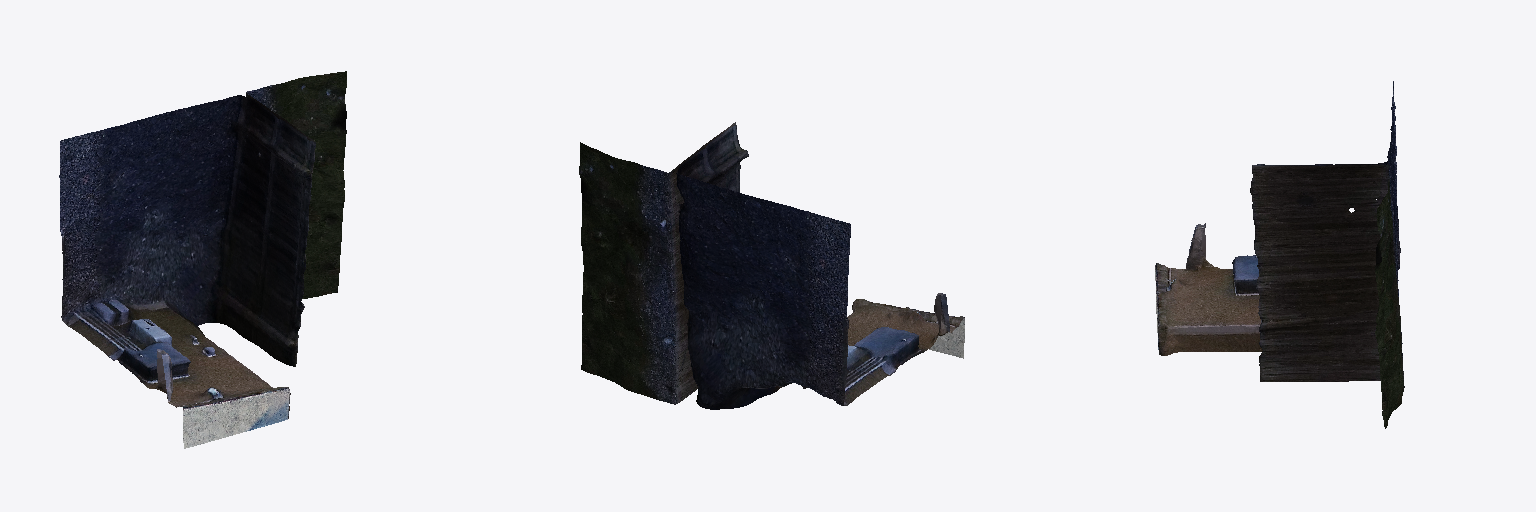
The picture shows the model from 3 angles: view 1: azimuth 30°, elevation 25°; view 2: azimuth 150°, elevation 25°; view 3: azimuth 270°, elevation 25°; orthographic projection.
Bounding box in the file's own units: 4.13 × 3.26 × 3.2.
2 materials, 1 textured.